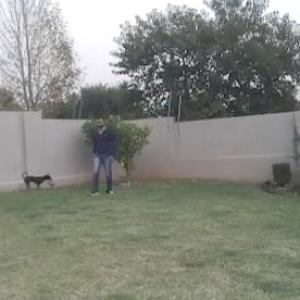follow: (91, 110, 118, 201)
